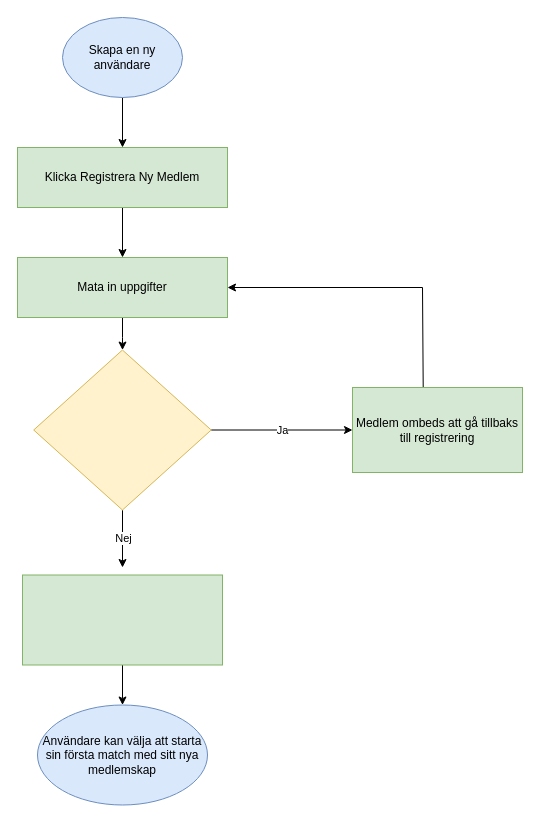
Image size: 540x823. Some labels were removed from this diagram. Here are the shapes that lost their labels. From the top down, the box of each, then its label:
(33, 349, 211, 510): Finns medlemsnamn redan registrerat?
(22, 574, 222, 665): Användare registreras och skickas sedan tillbaks till huvudmenyn.
